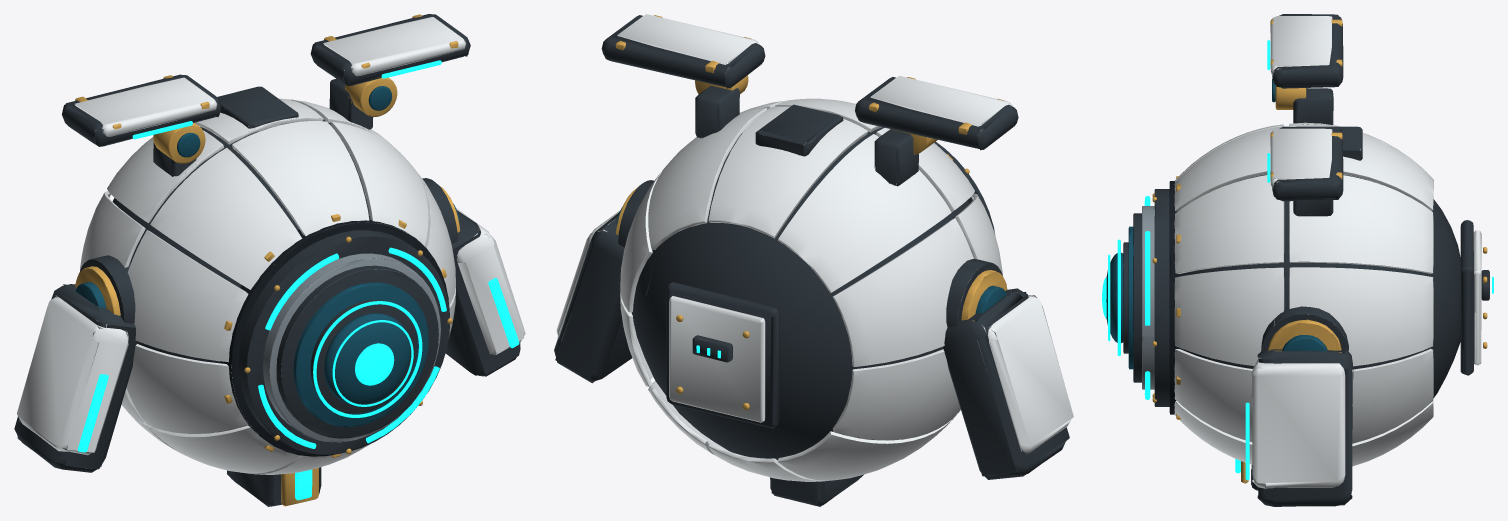
File: orbi-runtime.glb
3 views of the same model, side by side, from view 1: azimuth 30°, elevation 25°; view 2: azimuth 150°, elevation 25°; view 3: azimuth 270°, elevation 25° (orthographic). The views are drawn at different scales.
Visible parts, largest first — view 1: ORBI batched authored shell; view 2: ORBI batched authored shell; view 3: ORBI batched authored shell.
Part boxes in pixels (bbox=[...]): ORBI batched authored shell: bbox=[14, 14, 525, 506]; ORBI batched authored shell: bbox=[554, 14, 1073, 506]; ORBI batched authored shell: bbox=[1102, 14, 1493, 506].
Bounding box in the file's own units: 0.9025 × 0.7657 × 0.7049.
